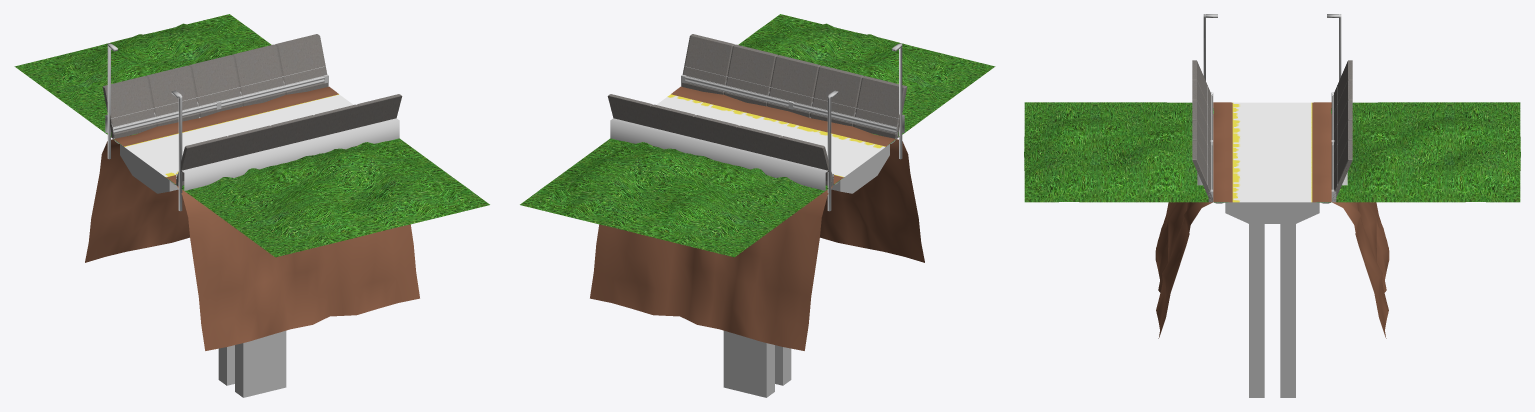
File: RoadStraight.fbx
3 renders of one model, left to right at view 1: azimuth 30°, elevation 25°; view 2: azimuth 150°, elevation 25°; view 3: azimuth 270°, elevation 25°, orthographic. The views are drawn at different scales.
Visible parts, largest first — view 1: CliffRight, TerrainRight, ConcreteWallLeft, TerrainLeft, CliffLeft, ConcreteWallRight, Road, TreeWallRight, Road Mask, RailGuardLeft, StreetLampRight, StreetLampLeft; view 2: CliffLeft, TerrainLeft, ConcreteWallRight, TerrainRight, CliffRight, ConcreteWallLeft, Road, TreeWallLeft, Road Mask, RailGuardRight, StreetLampLeft, StreetLampRight; view 3: TerrainLeft, TerrainRight, Road Mask, Road, CliffLeft, CliffRight, ConcreteWallRight, ConcreteWallLeft.
Boxes of the visible parts, left/top/right/bottom form: CliffRight: left=166, top=175, right=419, bottom=350; TerrainRight: left=167, top=138, right=489, bottom=257; ConcreteWallLeft: left=102, top=34, right=327, bottom=138; TerrainLeft: left=14, top=14, right=271, bottom=146; CliffLeft: left=85, top=86, right=338, bottom=262; ConcreteWallRight: left=176, top=94, right=402, bottom=186; Road: left=120, top=144, right=286, bottom=397; TreeWallRight: left=176, top=118, right=399, bottom=190; Road Mask: left=124, top=94, right=353, bottom=177; RailGuardLeft: left=113, top=76, right=324, bottom=133; StreetLampRight: left=171, top=90, right=182, bottom=211; StreetLampLeft: left=107, top=43, right=117, bottom=159; CliffLeft: left=590, top=175, right=843, bottom=350; TerrainLeft: left=520, top=138, right=842, bottom=257; ConcreteWallRight: left=682, top=34, right=907, bottom=138; TerrainRight: left=738, top=14, right=995, bottom=146; CliffRight: left=671, top=86, right=924, bottom=262; ConcreteWallLeft: left=607, top=94, right=833, bottom=186; Road: left=723, top=144, right=889, bottom=397; TreeWallLeft: left=610, top=118, right=833, bottom=190; Road Mask: left=656, top=94, right=885, bottom=177; RailGuardRight: left=684, top=76, right=896, bottom=133; StreetLampLeft: left=827, top=90, right=838, bottom=211; StreetLampRight: left=892, top=43, right=902, bottom=159; TerrainLeft: left=1316, top=102, right=1520, bottom=202; TerrainRight: left=1024, top=102, right=1228, bottom=202; Road Mask: left=1232, top=102, right=1312, bottom=202; Road: left=1225, top=202, right=1319, bottom=397; CliffLeft: left=1312, top=102, right=1389, bottom=338; CliffRight: left=1155, top=102, right=1232, bottom=338; ConcreteWallRight: left=1192, top=60, right=1212, bottom=202; ConcreteWallLeft: left=1332, top=60, right=1352, bottom=201.
Size of what is drawn, in the model's own units: 505 by 755 by 1052.
